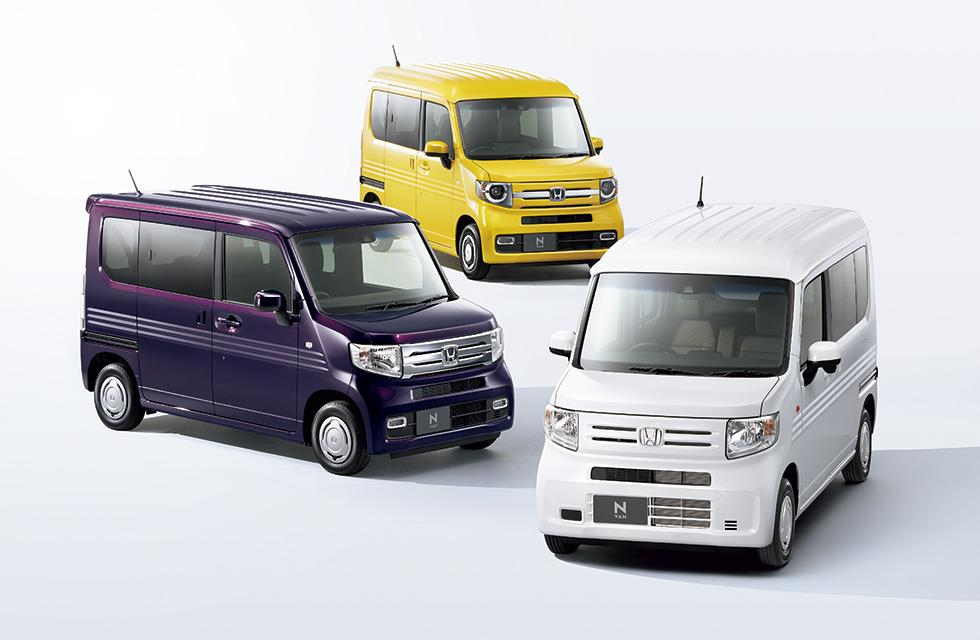van: (534, 200, 879, 570), (80, 184, 515, 475), (357, 61, 625, 280)
